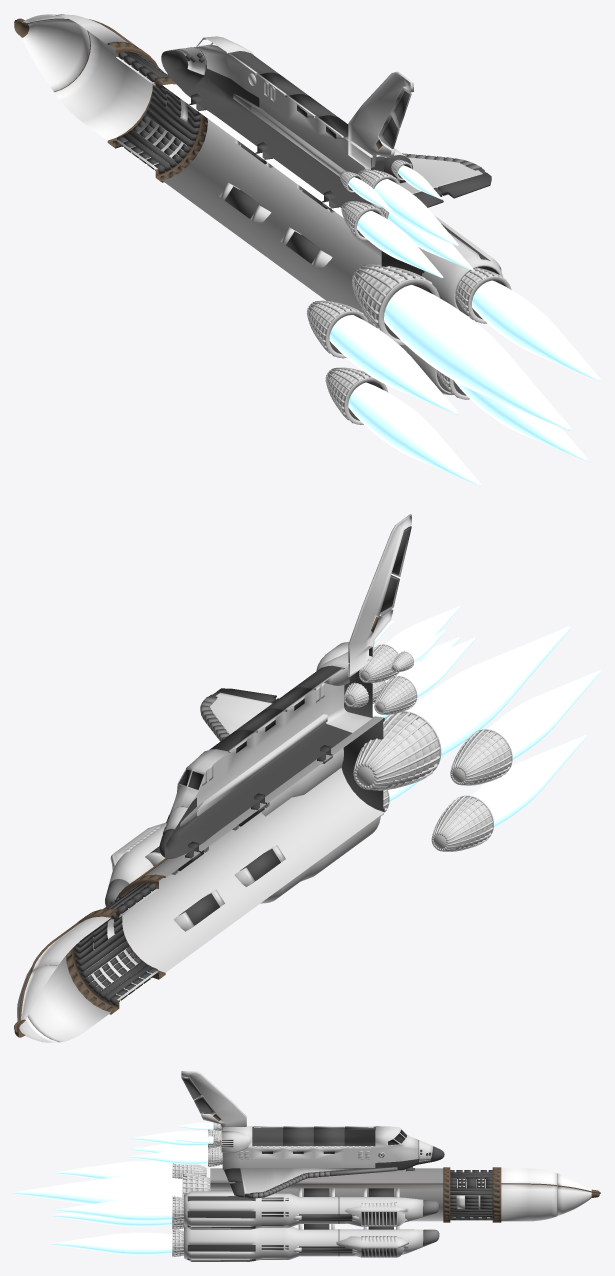
Rendered from rocketModel.gltf.
3 renders of one model, top to bottom at view 1: azimuth 30°, elevation 25°; view 2: azimuth 150°, elevation 25°; view 3: azimuth 270°, elevation 25°, orthographic. The views are drawn at different scales.
Parts seen in each view (by area): view 1: shuttle, Cylinder.010, Cylinder.013, Cylinder.011, Cylinder.014, Cylinder.005, Cylinder.012, Cylinder.015, Cylinder.017, Cylinder.009, Cylinder.007, Cylinder.016 (+2 smaller); view 2: shuttle, Cylinder.010, Cylinder.005, Cylinder.013, Cylinder.014, Cylinder.007, Cylinder.009, Cylinder.015, Cylinder.001, Cylinder.017, Cylinder; view 3: shuttle, Cylinder.010, Cylinder.012, Cylinder.011, Cylinder.014, Cylinder.016, Cylinder.013, Cylinder.017, Cylinder.005, Cylinder.015, Cylinder.007, Cylinder.006 (+1 smaller).
Boxes of the visible parts, x1=… form: shuttle: x1=14, y1=14, x2=502, y2=394; Cylinder.010: x1=384, y1=285, x2=570, y2=430; Cylinder.013: x1=348, y1=382, x2=480, y2=485; Cylinder.011: x1=472, y1=280, x2=600, y2=381; Cylinder.014: x1=329, y1=315, x2=458, y2=414; Cylinder.005: x1=352, y1=264, x2=439, y2=345; Cylinder.012: x1=454, y1=381, x2=587, y2=461; Cylinder.015: x1=357, y1=211, x2=443, y2=278; Cylinder.017: x1=374, y1=179, x2=458, y2=245; Cylinder.009: x1=325, y1=367, x2=388, y2=424; Cylinder.007: x1=306, y1=300, x2=368, y2=358; Cylinder.016: x1=387, y1=213, x2=473, y2=270; shuttle: x1=14, y1=514, x2=411, y2=1042; Cylinder.010: x1=407, y1=626, x2=570, y2=756; Cylinder.005: x1=353, y1=711, x2=441, y2=790; Cylinder.013: x1=471, y1=734, x2=587, y2=827; Cylinder.014: x1=487, y1=670, x2=600, y2=759; Cylinder.007: x1=450, y1=729, x2=512, y2=785; Cylinder.009: x1=431, y1=795, x2=493, y2=851; Cylinder.015: x1=400, y1=637, x2=475, y2=697; Cylinder.001: x1=374, y1=676, x2=417, y2=714; Cylinder.017: x1=385, y1=606, x2=460, y2=653; Cylinder: x1=359, y1=644, x2=399, y2=683; shuttle: x1=181, y1=1071, x2=600, y2=1261; Cylinder.010: x1=14, y1=1176, x2=182, y2=1204; Cylinder.012: x1=52, y1=1232, x2=172, y2=1255; Cylinder.011: x1=56, y1=1198, x2=172, y2=1221; Cylinder.014: x1=56, y1=1161, x2=172, y2=1179; Cylinder.016: x1=131, y1=1149, x2=207, y2=1164; Cylinder.013: x1=52, y1=1212, x2=172, y2=1226; Cylinder.017: x1=131, y1=1130, x2=207, y2=1145; Cylinder.005: x1=182, y1=1173, x2=210, y2=1197; Cylinder.015: x1=131, y1=1144, x2=207, y2=1153; Cylinder.007: x1=172, y1=1163, x2=206, y2=1178; Cylinder.006: x1=172, y1=1196, x2=183, y2=1223.
Bounding box in the file's own units: 5.99 × 8.16 × 24.76.
